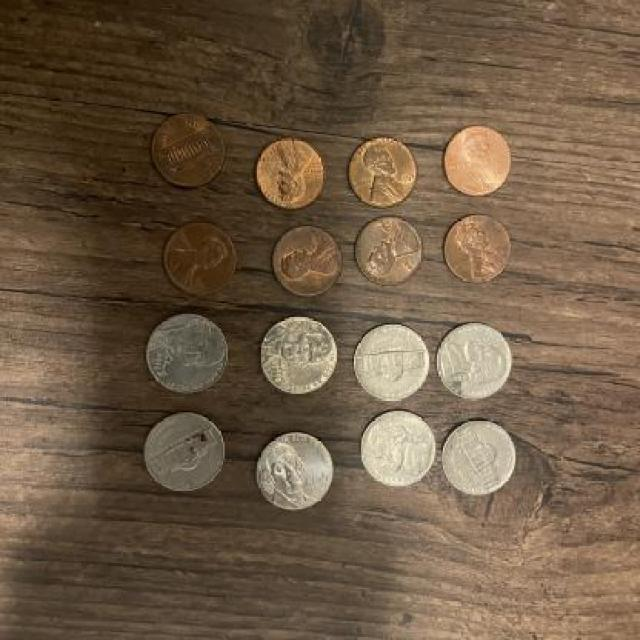Nickel: (144, 314, 230, 392), (143, 414, 226, 492), (260, 316, 338, 396), (437, 322, 515, 402), (255, 432, 334, 510), (354, 323, 431, 403), (440, 418, 517, 497), (360, 408, 434, 486)
Penny: (149, 112, 226, 190), (164, 220, 238, 296), (270, 224, 344, 300), (254, 138, 328, 212), (440, 211, 512, 286), (346, 137, 419, 208), (443, 125, 514, 197), (356, 214, 426, 286)
